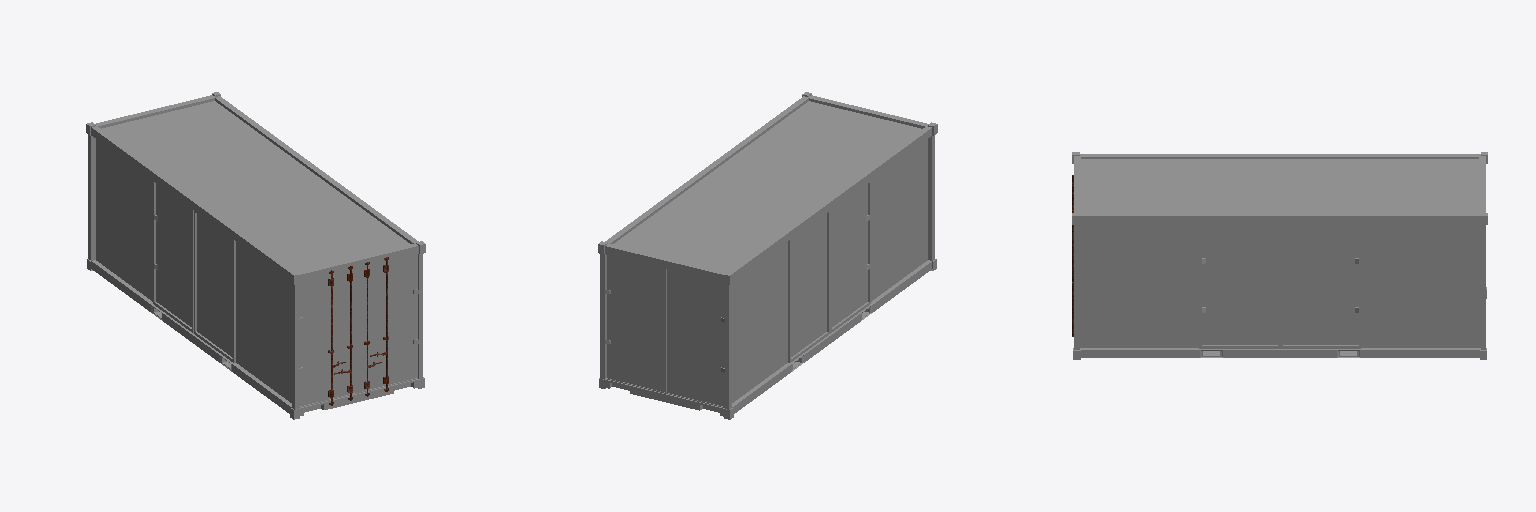
The picture shows the model from 3 angles: view 1: azimuth 30°, elevation 25°; view 2: azimuth 150°, elevation 25°; view 3: azimuth 270°, elevation 25°; orthographic projection.
Parts seen in each view (by area): view 1: Cube.001, Cube.001_Cube.008, Cube.002_Cube.009, Cylinder.000_Cylinder.006; view 2: Cube.001, Cube.002_Cube.009, Cube.001_Cube.008; view 3: Cube.001, Cube.004_Cube.005, Cube.003_Cube.004.
Boxes of the visible parts, box(x1,y1,x2,y2) form: Cube.001: box(86, 92, 425, 419); Cube.001_Cube.008: box(194, 211, 235, 362); Cube.002_Cube.009: box(153, 181, 193, 333); Cylinder.000_Cylinder.006: box(328, 257, 388, 405); Cube.001: box(598, 92, 937, 419); Cube.002_Cube.009: box(788, 211, 829, 362); Cube.001_Cube.008: box(830, 181, 870, 333); Cube.001: box(1072, 152, 1487, 359); Cube.004_Cube.005: box(1199, 225, 1279, 348); Cube.003_Cube.004: box(1280, 225, 1360, 348).
Size of the model in its own units: 3.25 by 3.41 by 8.92.
6 materials, 1 textured.